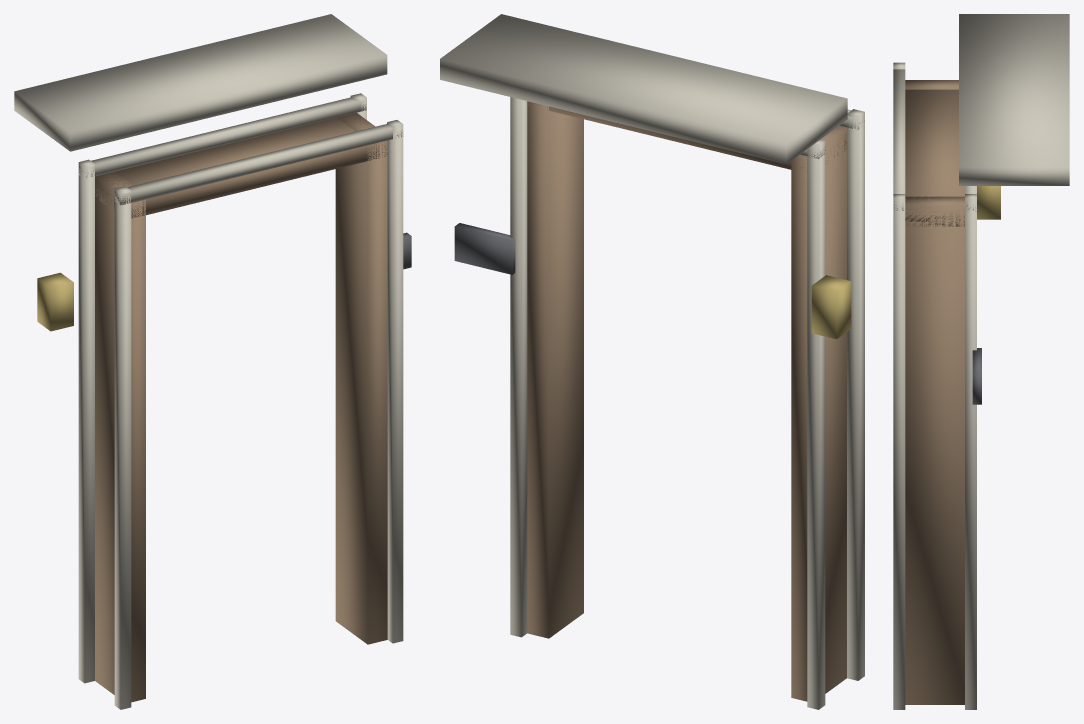
File: doorway_motel_w96_h200_d24.glb
3 views of the same model, side by side, from view 1: azimuth 30°, elevation 25°; view 2: azimuth 150°, elevation 25°; view 3: azimuth 270°, elevation 25° (orthographic). The views are drawn at different scales.
Visible parts, largest first — view 1: world; view 2: world; view 3: world.
Boxes of the visible parts, <box> form: world: <box>14,14,411,709</box>; world: <box>440,14,864,709</box>; world: <box>893,14,1069,709</box>.
Size of the model in its own units: 1.56 by 2.31 by 0.6682.
